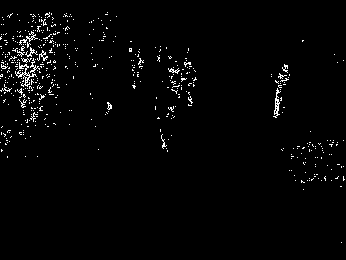person: (273, 64, 290, 118)
